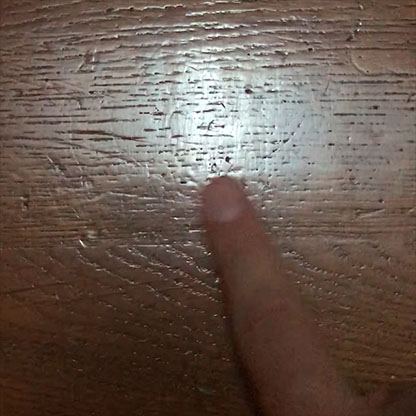fingertip: (190, 170, 258, 240)
